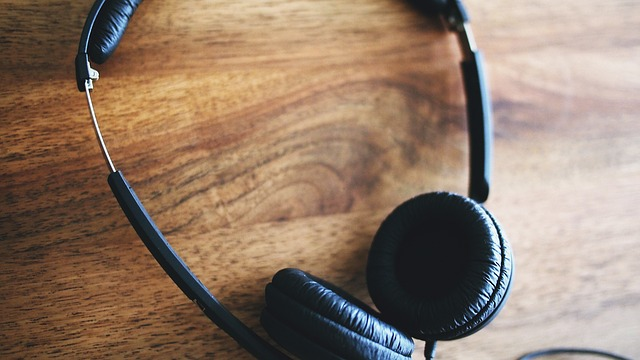headphones: (75, 1, 514, 360)
